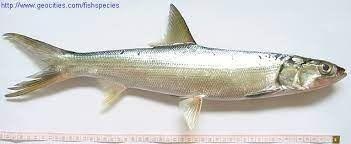Tenpounder: (3, 3, 346, 133)
